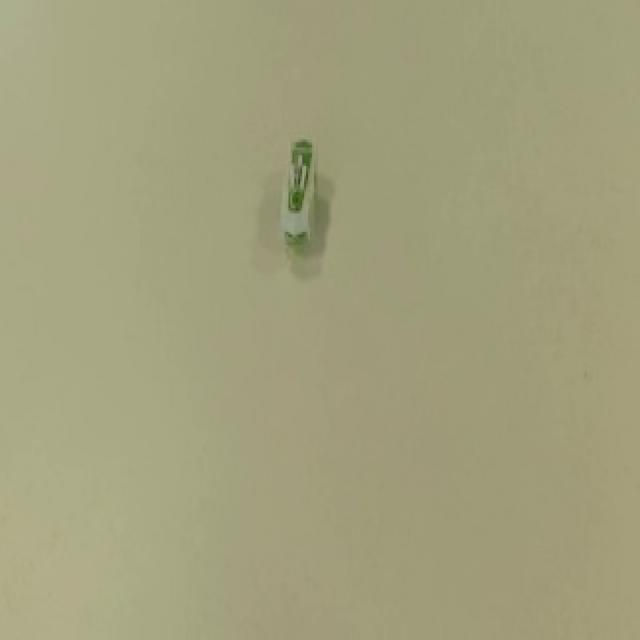4_NanoBug_Blanco: (250, 102, 350, 276)
